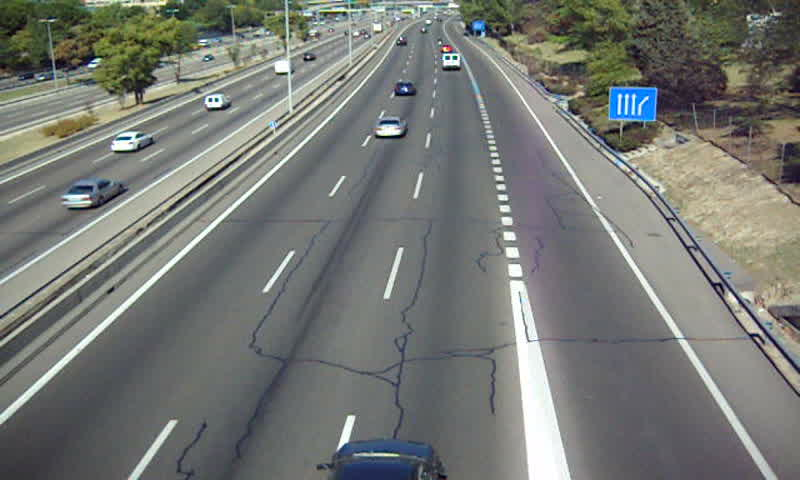car: (374, 115, 407, 138), (394, 81, 416, 98)
van: (442, 52, 461, 71)
